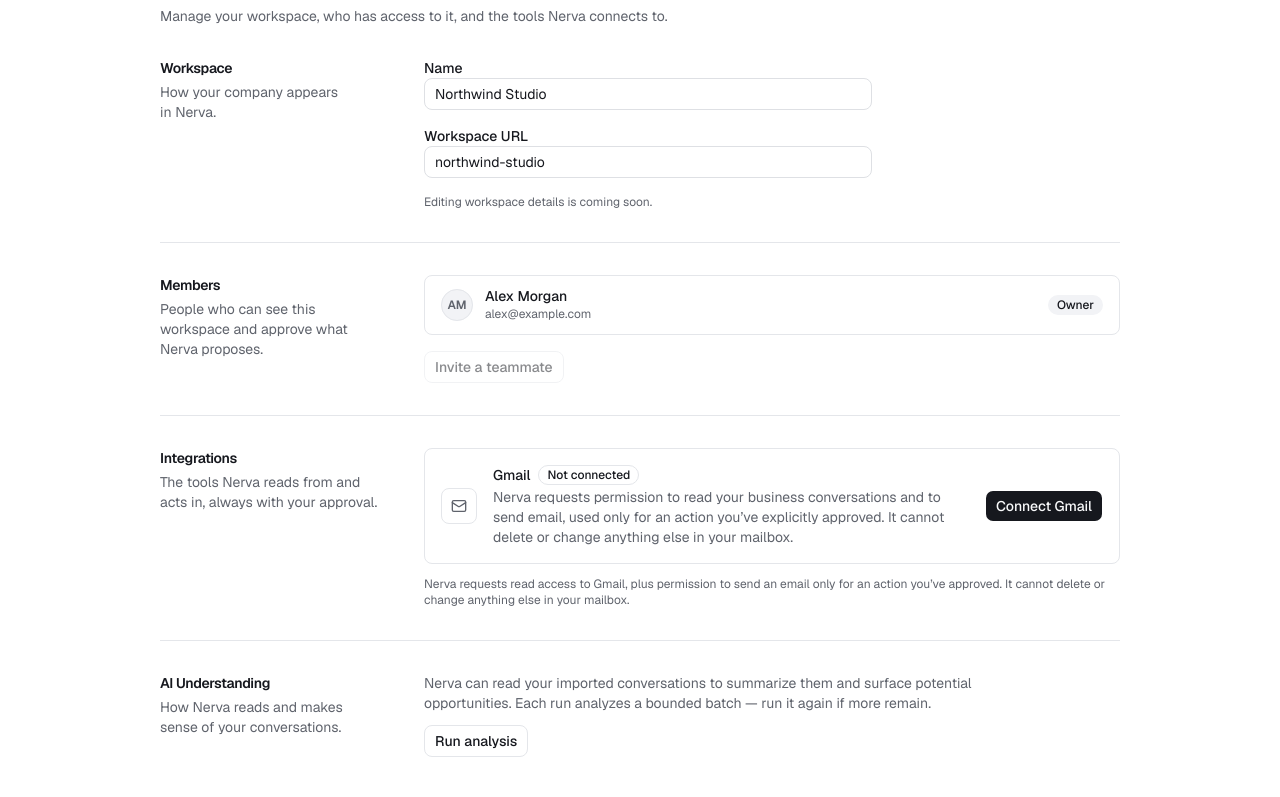
Test: SettingsView › AI Understanding › shows a safe error message when the backfill fails
(page scrolled)
What coordinates should you click on to do the following:
click the button "Run analysis"
I would click on:
 (476, 740)
Its box is [424,724,528,756].
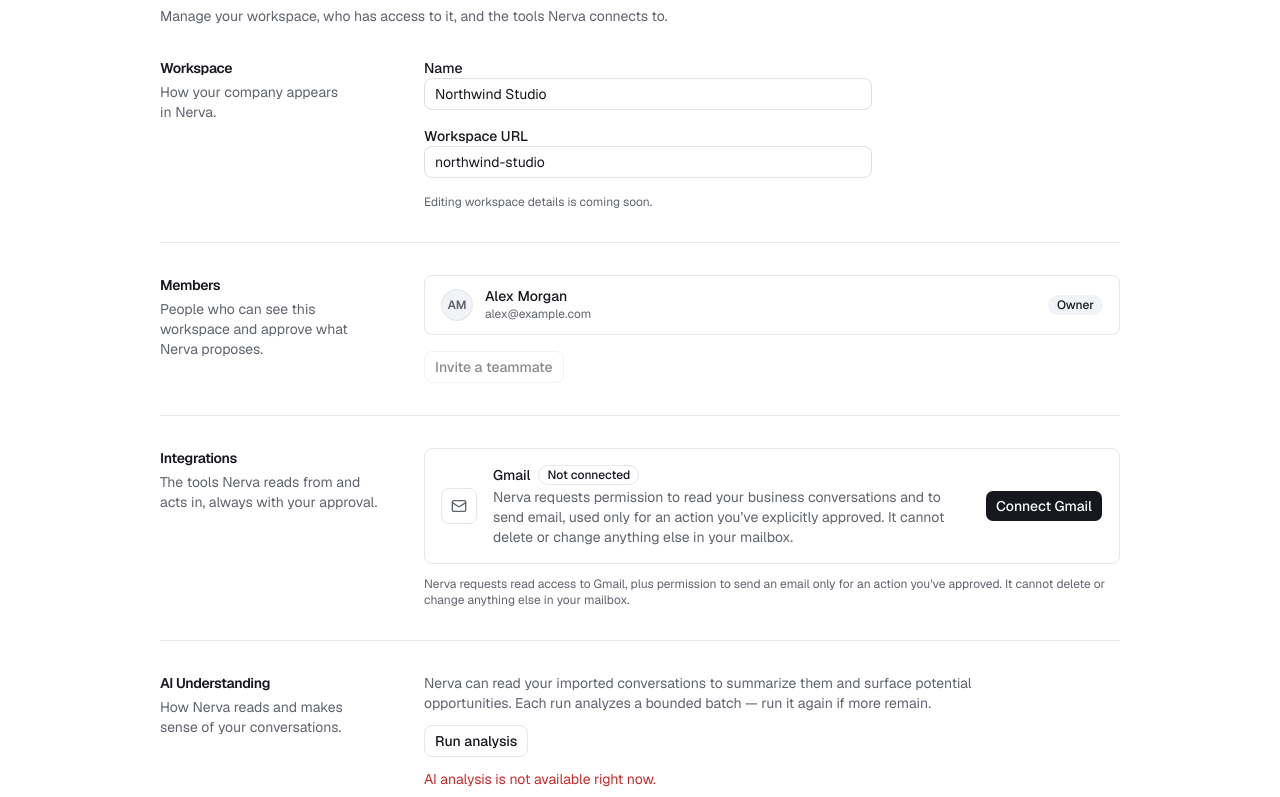
Check: the text "AI analysis is not available right now." is shown, box [424,770,656,788]
